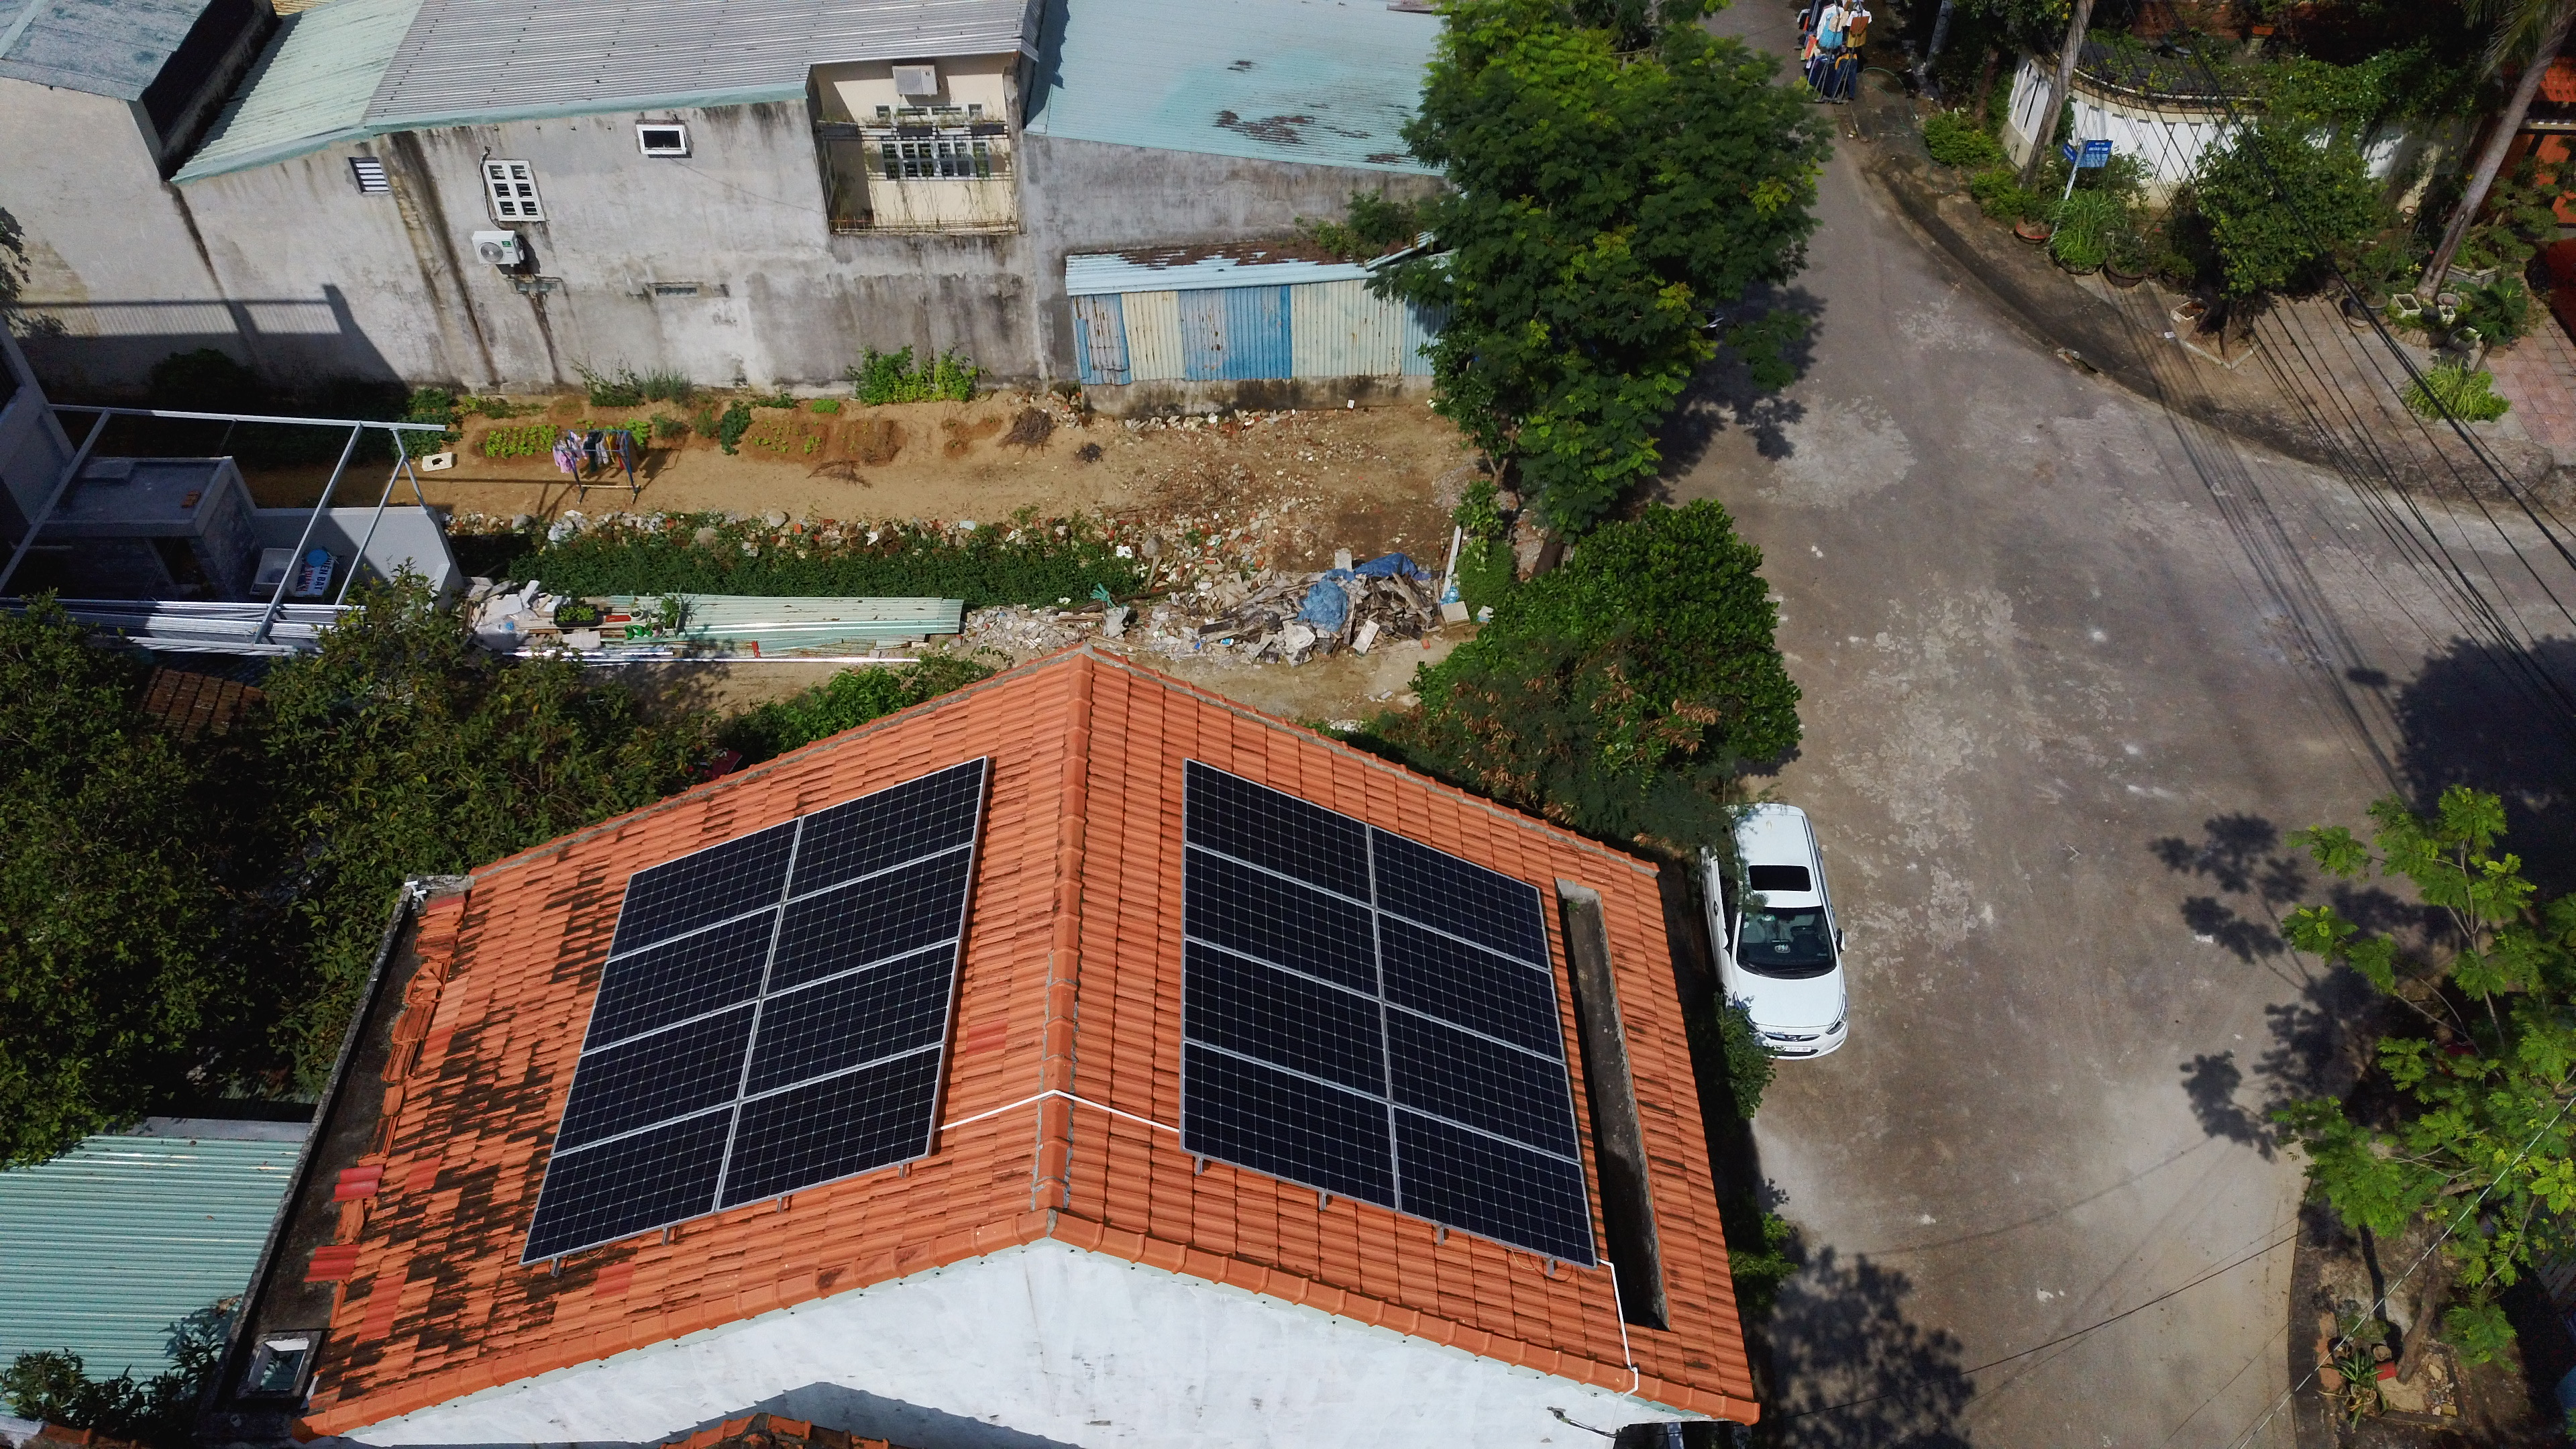solar: (713, 1040, 945, 1214), (1180, 1037, 1399, 1214), (515, 1097, 741, 1267), (736, 938, 962, 1104), (1180, 936, 1394, 1104), (547, 996, 763, 1162), (757, 840, 977, 1001), (1387, 1100, 1598, 1267), (575, 895, 784, 1060), (1378, 1001, 1585, 1166), (1180, 840, 1385, 1005), (778, 752, 987, 908), (602, 816, 809, 966), (1371, 906, 1566, 1065), (1180, 757, 1380, 911), (1368, 824, 1552, 975)
